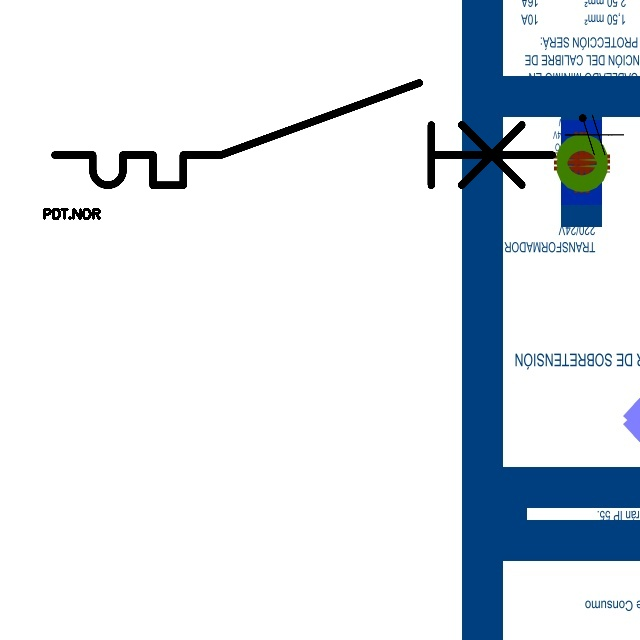interruptor_termomagnetico: (42, 70, 565, 198)
